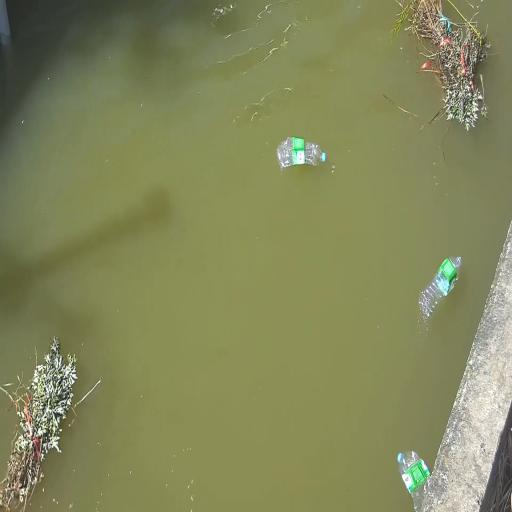plastic: (419, 257, 461, 320), (398, 451, 430, 511), (277, 138, 325, 169)
twig: (0, 337, 101, 512), (392, 0, 490, 130)
